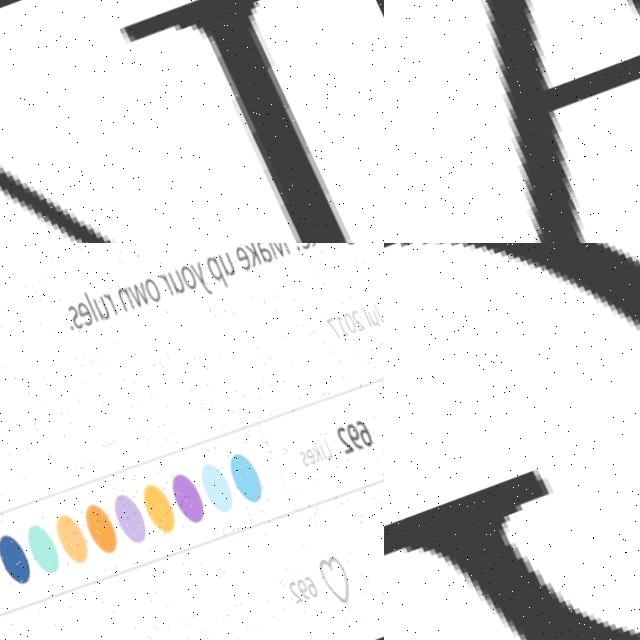0: (341, 300, 359, 326)
1: (333, 304, 350, 328)
2: (332, 412, 357, 447), (285, 568, 303, 597), (349, 297, 367, 321), (380, 285, 384, 309)
6: (353, 405, 375, 438), (301, 563, 320, 590)
7: (325, 305, 342, 330)
9: (342, 408, 366, 444), (294, 567, 311, 592)
A: (384, 0, 640, 243)
G: (384, 243, 640, 640)
V: (119, 0, 357, 243)
